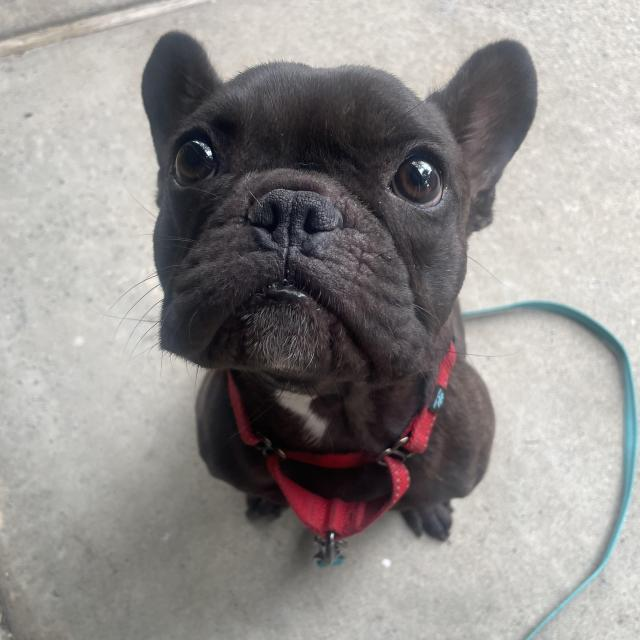french_bulldog_dog: (121, 17, 541, 420)
